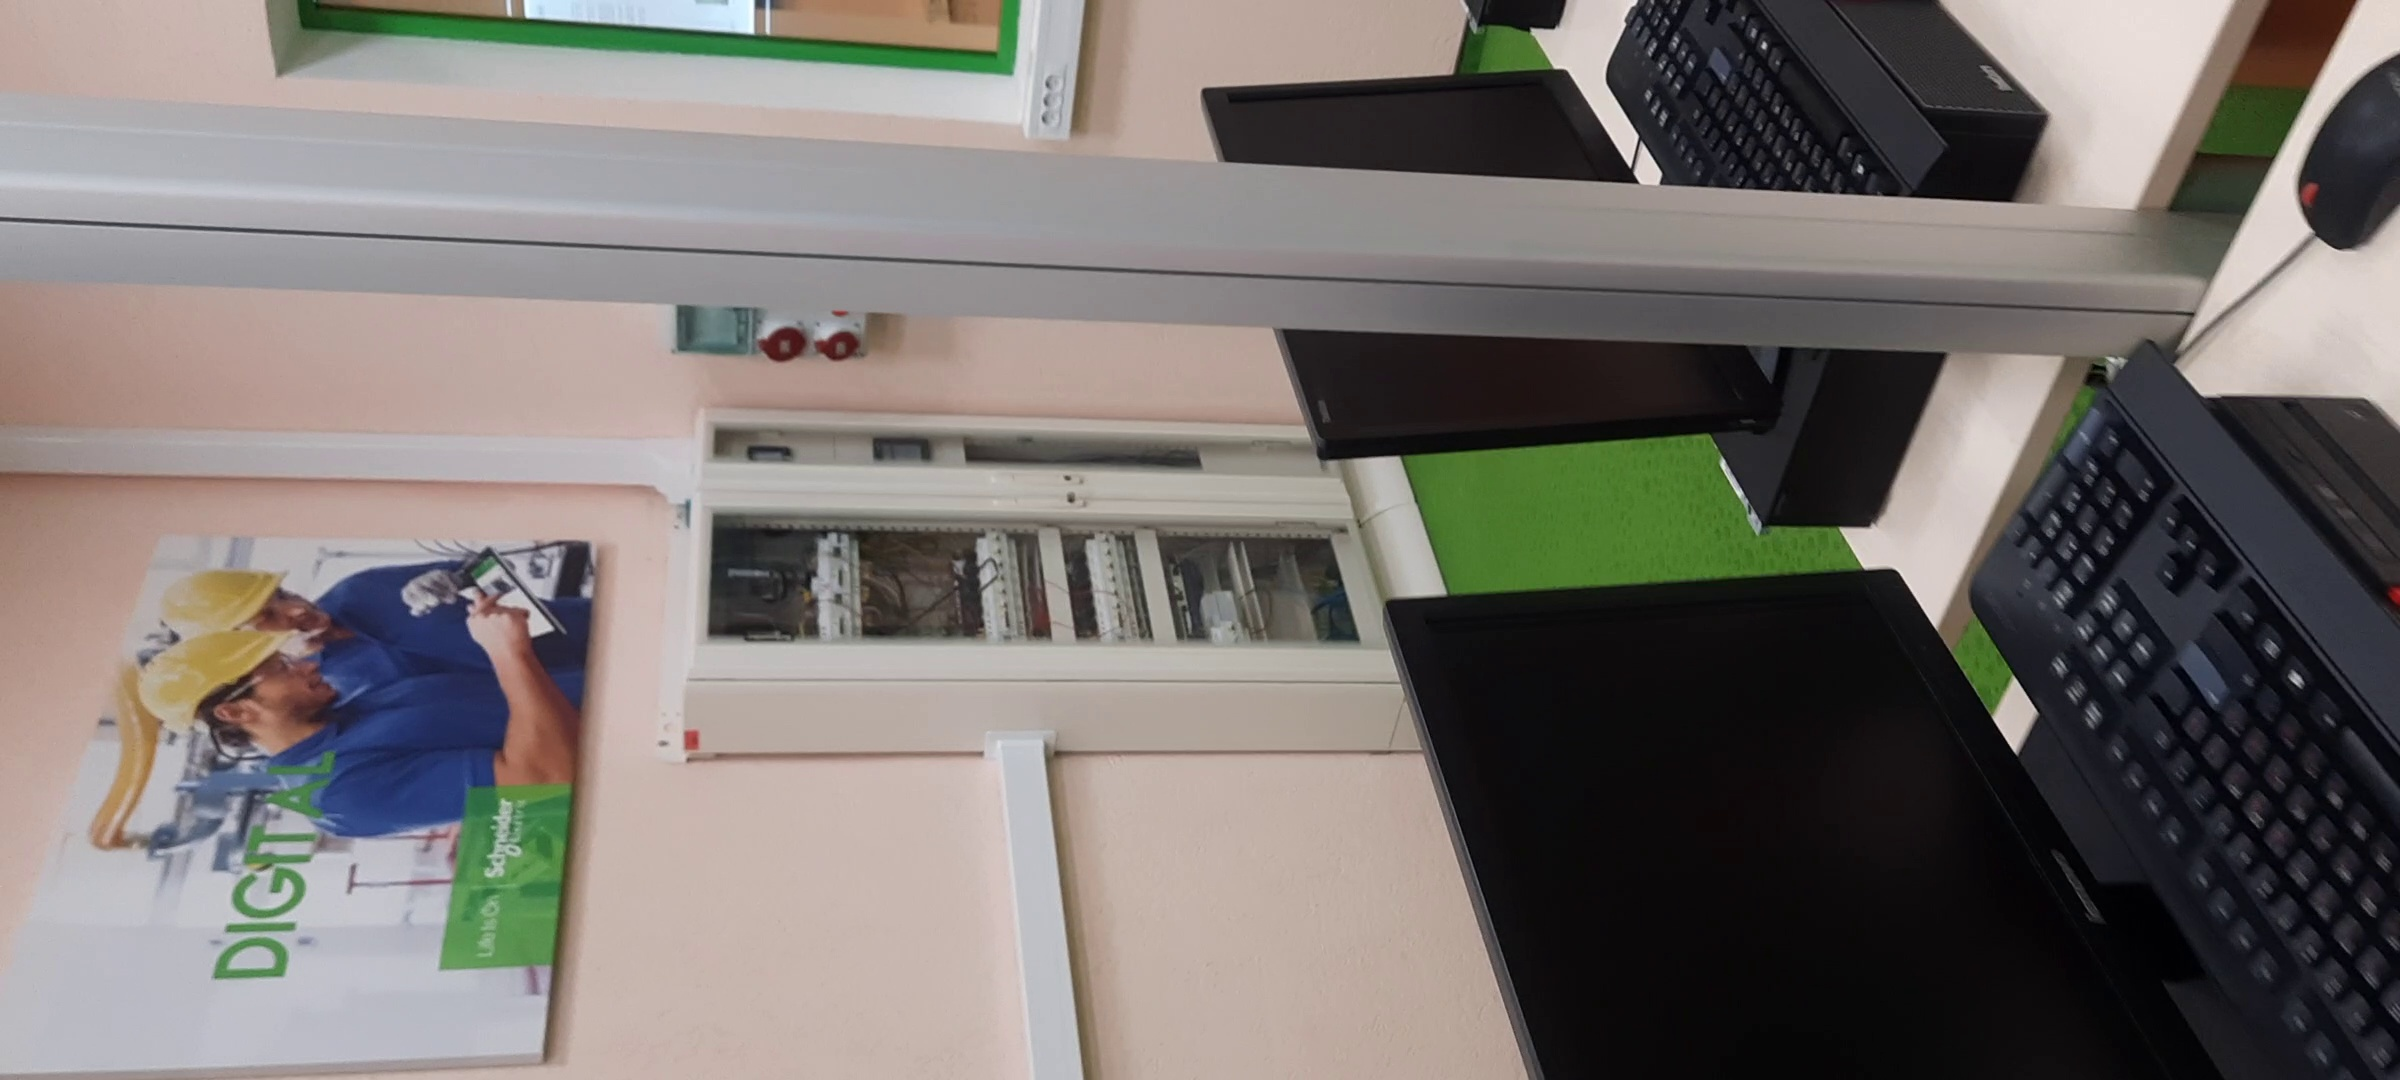stand1: (683, 399, 1408, 753)
